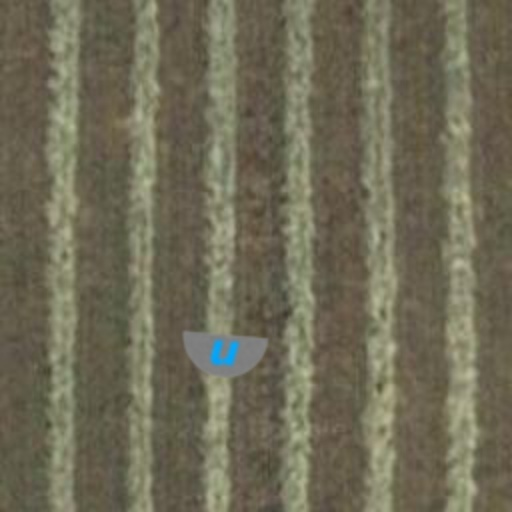semicircle: (176, 308, 272, 404)
